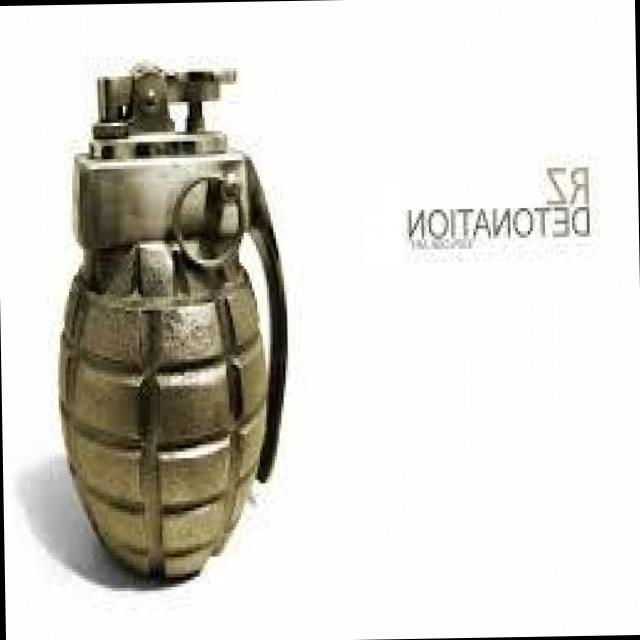grenade: (51, 54, 290, 592)
